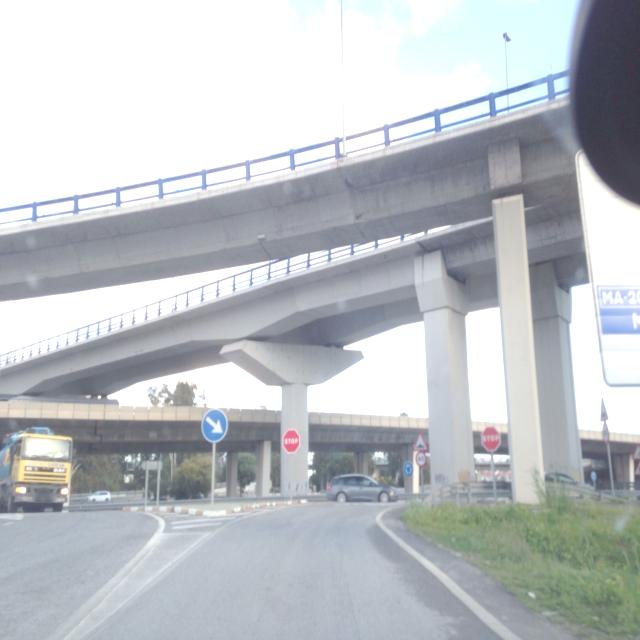car: (326, 472, 398, 503), (544, 471, 596, 495), (87, 489, 112, 503)
